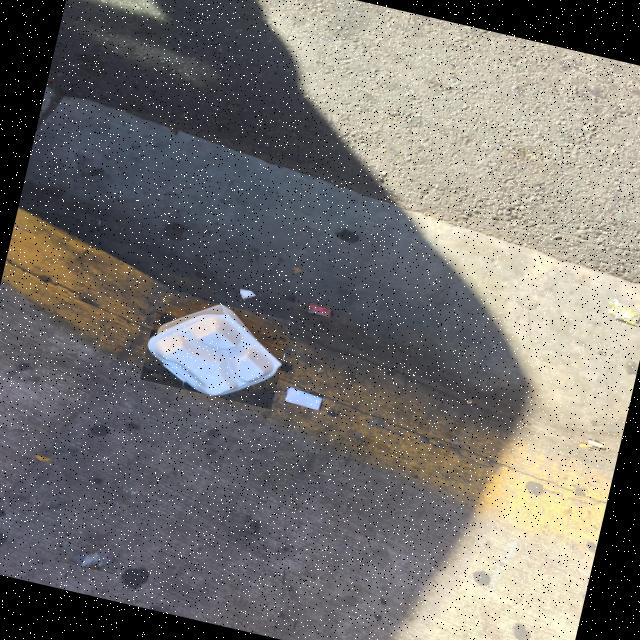Cigarette: (587, 440, 604, 448), (578, 443, 593, 447)
Foam food container: (148, 305, 281, 396)
Other plastic: (309, 303, 331, 317)
Plastic film: (59, 538, 121, 567)
Unlabeled litter: (285, 387, 322, 410), (240, 290, 256, 300)
